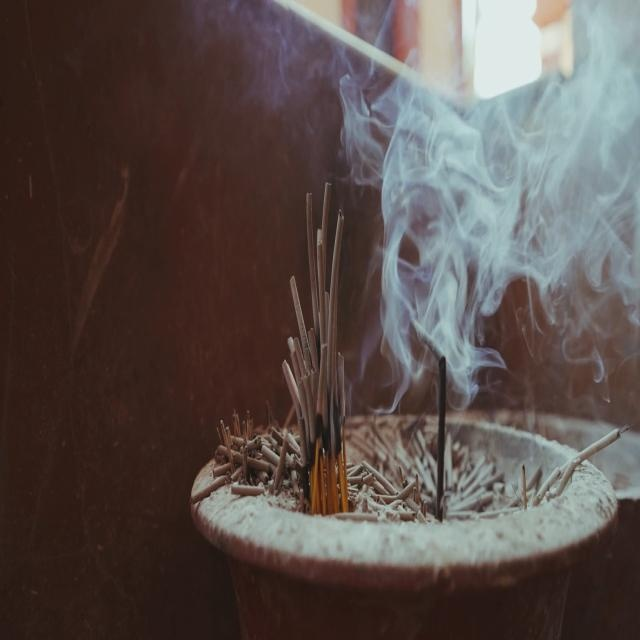smoke: (323, 5, 640, 375)
